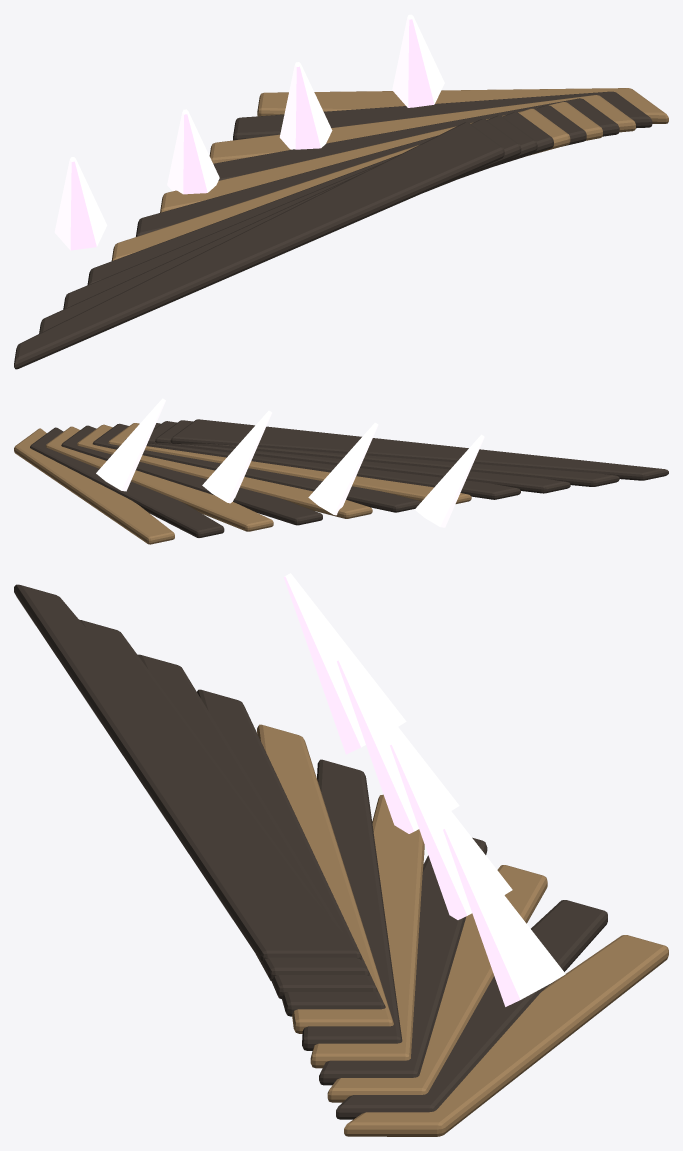
Rendered from SM_Keeper_Sokar_Wingm1.fbx.
3 views of the same model, one above another, from view 1: azimuth 30°, elevation 25°; view 2: azimuth 150°, elevation 25°; view 3: azimuth 270°, elevation 25° (orthographic). The views are drawn at different scales.
Parts seen in each view (by area): view 1: SM_Keeper_Sokar_Wingm1; view 2: SM_Keeper_Sokar_Wingm1; view 3: SM_Keeper_Sokar_Wingm1.
Boxes of the visible parts, bbox=[...] form: SM_Keeper_Sokar_Wingm1: bbox=[14, 14, 668, 369]; SM_Keeper_Sokar_Wingm1: bbox=[14, 398, 668, 544]; SM_Keeper_Sokar_Wingm1: bbox=[14, 573, 668, 1136].
Size of the model in its own units: 4.41 by 0.7245 by 2.47.
